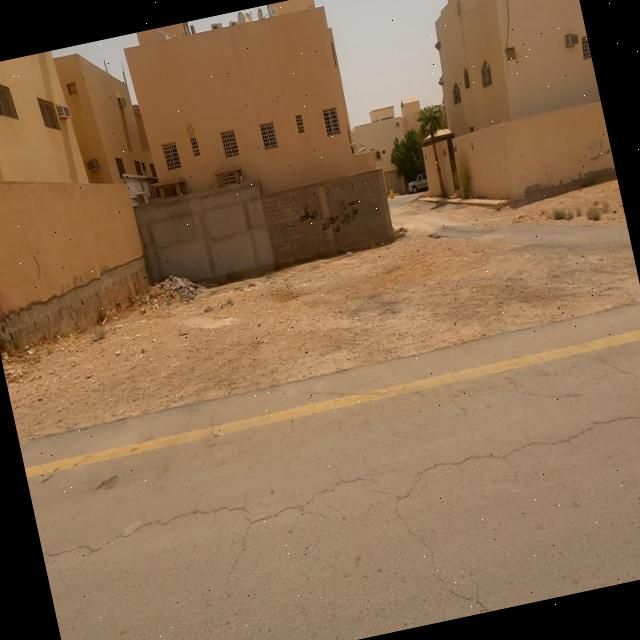Graffiti: (336, 197, 363, 229), (320, 211, 343, 241), (299, 206, 321, 225)
